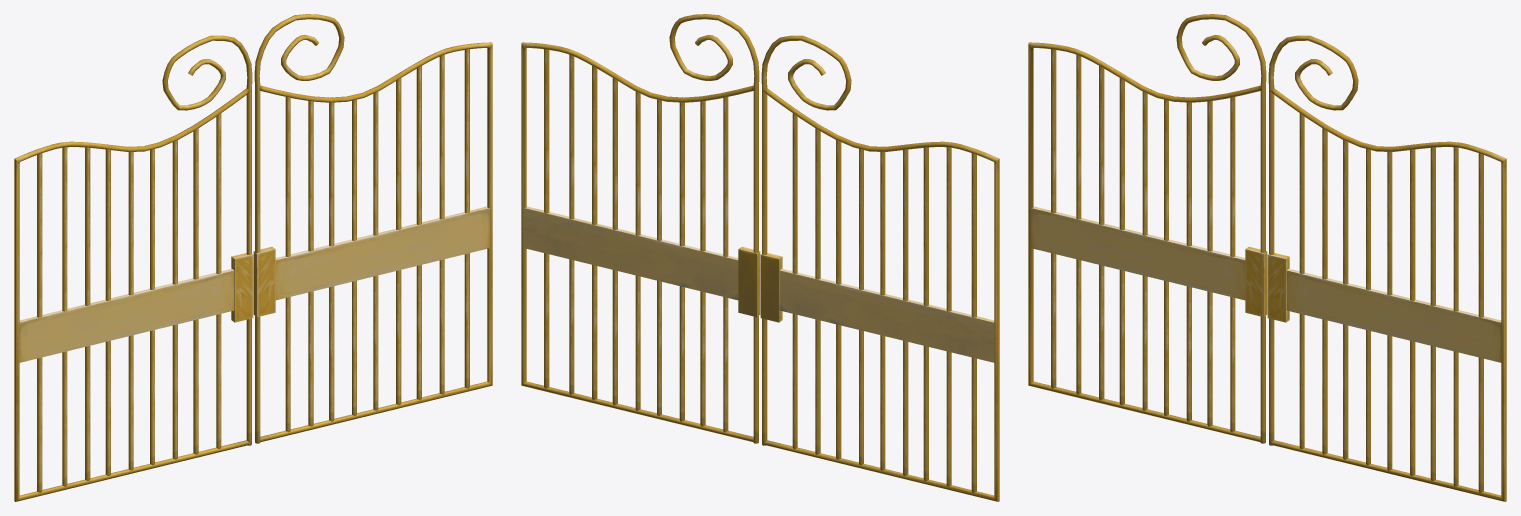
File: menu_gateNew.fbx
3 renders of one model, left to right at view 1: azimuth 30°, elevation 25°; view 2: azimuth 150°, elevation 25°; view 3: azimuth 330°, elevation 25°, orthographic.
Visible parts, largest first — view 1: Line003, Line002; view 2: Line003, Line002; view 3: Line002, Line003.
Part boxes in pixels (x1,y1,x2,y2): Line003: [14, 35, 253, 501]; Line002: [253, 14, 492, 443]; Line003: [760, 35, 999, 501]; Line002: [521, 14, 760, 443]; Line002: [1267, 35, 1506, 501]; Line003: [1028, 14, 1267, 443].
Size of the model in its own units: 103 by 86.18 by 1.32.
Materials: 1 (1 with a texture image).
